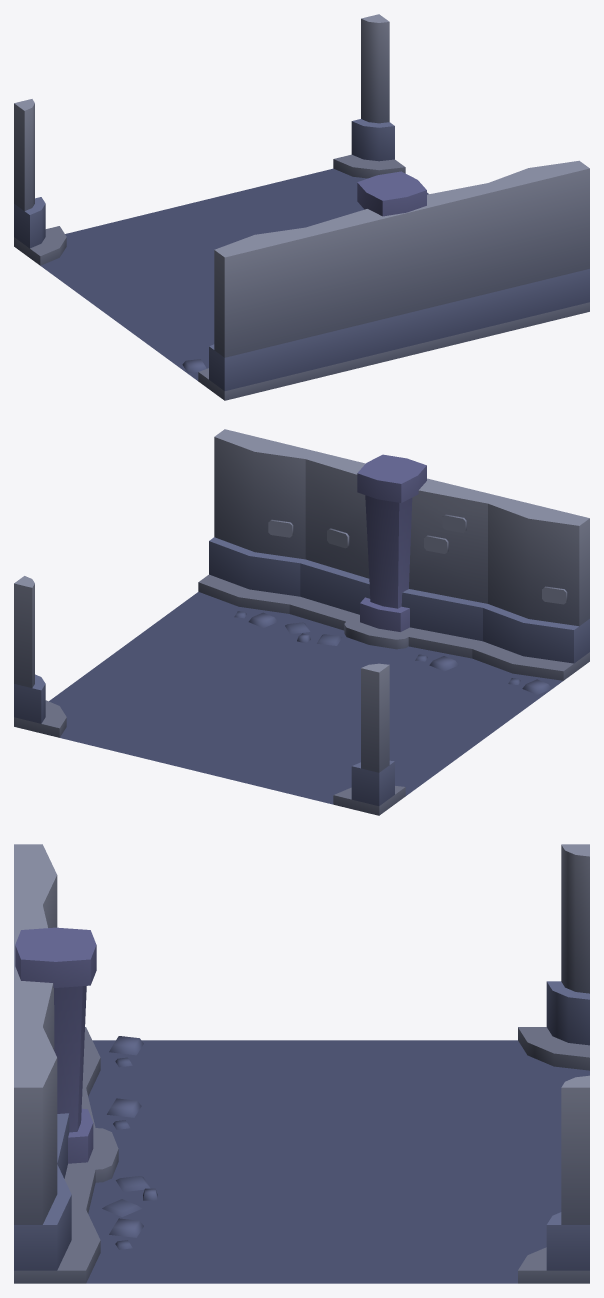
File: corridor-wide-junction.glb
The picture shows the model from 3 angles, top to bottom: view 1: azimuth 30°, elevation 25°; view 2: azimuth 150°, elevation 25°; view 3: azimuth 270°, elevation 25°; orthographic projection. The views are drawn at different scales.
Visible parts, largest first — view 1: corridor-wide-junction; view 2: corridor-wide-junction; view 3: corridor-wide-junction.
Part boxes in pixels (x1,y1,x2,y2): corridor-wide-junction: (14,14,589,400); corridor-wide-junction: (14,429,589,815); corridor-wide-junction: (14,844,589,1283).
Size of the model in its own units: 8 by 3.33 by 8.
